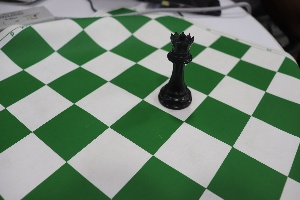black_queen: (154, 19, 197, 115)
